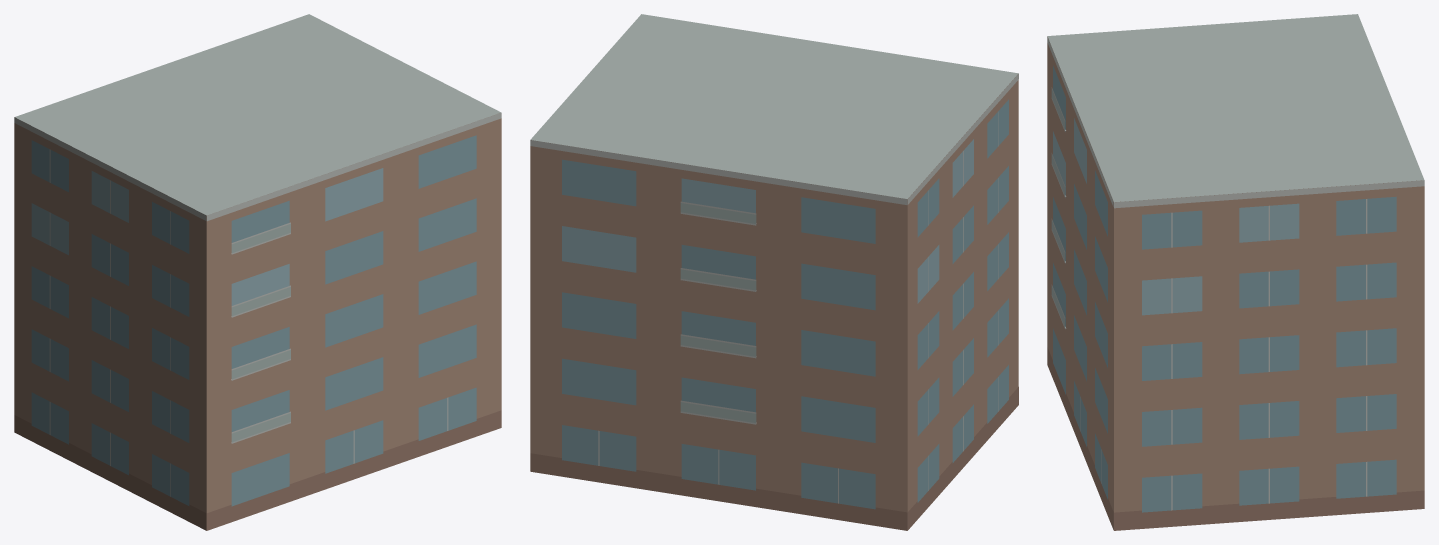
File: survey-upis-32874484.glb
The picture shows the model from 3 angles, left to right: view 1: azimuth 30°, elevation 25°; view 2: azimuth 150°, elevation 25°; view 3: azimuth 270°, elevation 25°; orthographic projection. The views are drawn at different scales.
Parts seen in each view (by area): view 1: survey-upis-32874484.tmp; view 2: survey-upis-32874484.tmp; view 3: survey-upis-32874484.tmp.
Boxes of the visible parts, x1,y1,x2,y2 form: survey-upis-32874484.tmp: (14,14,501,530); survey-upis-32874484.tmp: (530,14,1018,530); survey-upis-32874484.tmp: (1047,14,1424,530).
Size of the model in its own units: 16.22 by 13.2 by 13.74.
